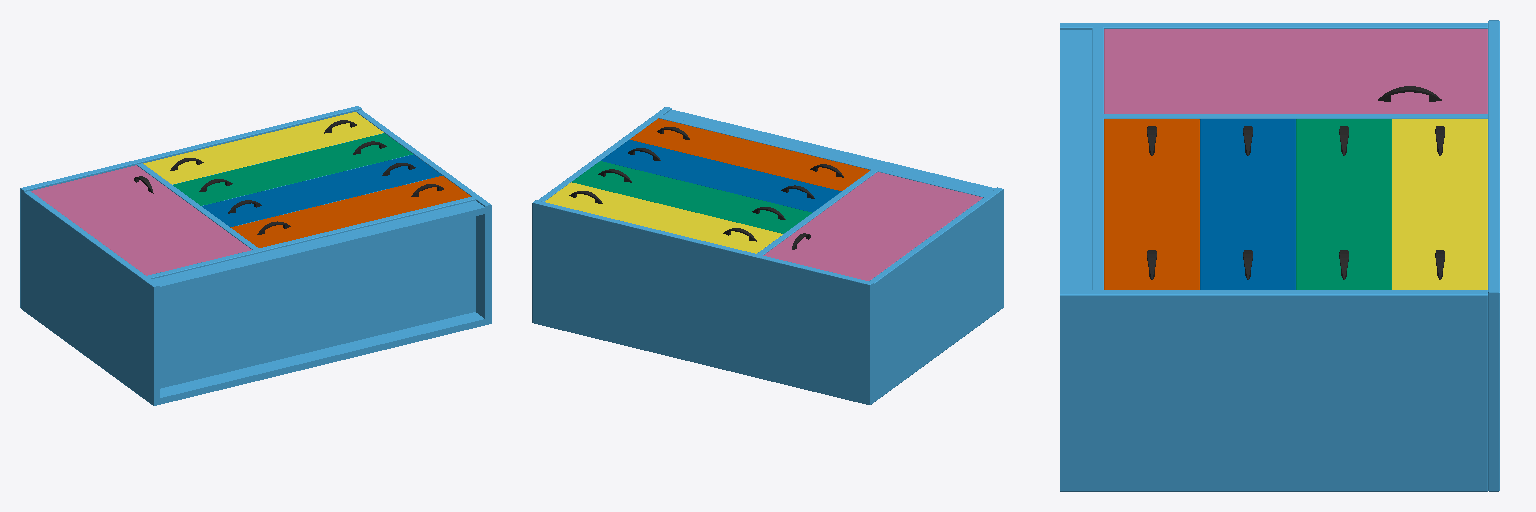
URDF robot description (s__2090):
<robot name="s__2090">


	<link name="0:virtual">
		<visual>
			<origin xyz="0.0 0.0 0.0" rpy="0 0 0"/>
			<geometry>
				<cylinder length="0" radius="0"/>
			</geometry>
		</visual>
	</link>


	<link name="1:static">
		<visual>
			<origin xyz="-0.0 -0.0 -0.0" rpy="0 0 0"/>
			<geometry>
				<mesh filename="../raw_data/s__2090/part_meshes/1.dae" />
			</geometry>
		</visual>
	</link>


	<link name="2:drawer 1">
		<visual>
			<origin xyz="-0.20000001043081284 -0.5297195017337799 0.0022474974393844604" rpy="0 0 0"/>
			<geometry>
				<mesh filename="../raw_data/s__2090/part_meshes/2.dae" />
			</geometry>
		</visual>
	</link>


	<link name="3:drawer 2">
		<visual>
			<origin xyz="-0.20000001043081284 -0.7084999978542328 0.0022475048899650574" rpy="0 0 0"/>
			<geometry>
				<mesh filename="../raw_data/s__2090/part_meshes/3.dae" />
			</geometry>
		</visual>
	</link>


	<link name="4:drawer 3">
		<visual>
			<origin xyz="-0.20000001043081284 -0.35071949660778046 0.0022474974393844604" rpy="0 0 0"/>
			<geometry>
				<mesh filename="../raw_data/s__2090/part_meshes/4.dae" />
			</geometry>
		</visual>
	</link>


	<link name="5:drawer 4">
		<visual>
			<origin xyz="-0.20000001043081284 -0.17171970382332802 0.0022474974393844604" rpy="0 0 0"/>
			<geometry>
				<mesh filename="../raw_data/s__2090/part_meshes/5.dae" />
			</geometry>
		</visual>
	</link>


	<link name="6:cabinet door 1">
		<visual>
			<origin xyz="0.5775610208511353 -0.43978049606084824 -0.1782499998807907" rpy="0 0 0"/>
			<geometry>
				<mesh filename="../raw_data/s__2090/part_meshes/6.dae" />
			</geometry>
		</visual>
	</link>


	<joint name="0:virtual::1:static" type="fixed">
		<parent link="0:virtual"/>
		<child link="1:static"/>
		<origin xyz="0.0 0.0 0.0" rpy="0 0 0"/>
	</joint>


	<joint name="0:virtual::2:drawer 1_translation" type="prismatic">
		<parent link="0:virtual"/>
		<child link="2:drawer 1"/>
		<origin xyz="0.20000001043081284 0.5297195017337799 -0.0022474974393844604" rpy="0 0 0"/>
		<limit lower="0.0" upper="0.346499998033047" effort="10" velocity="3"/>
		<axis xyz="0.0 0.0 1.0"/>
	</joint>


	<joint name="0:virtual::3:drawer 2_translation" type="prismatic">
		<parent link="0:virtual"/>
		<child link="3:drawer 2"/>
		<origin xyz="0.20000001043081284 0.7084999978542328 -0.0022475048899650574" rpy="0 0 0"/>
		<limit lower="0.0" upper="0.346499998033047" effort="10" velocity="3"/>
		<axis xyz="0.0 0.0 1.0"/>
	</joint>


	<joint name="0:virtual::4:drawer 3_translation" type="prismatic">
		<parent link="0:virtual"/>
		<child link="4:drawer 3"/>
		<origin xyz="0.20000001043081284 0.35071949660778046 -0.0022474974393844604" rpy="0 0 0"/>
		<limit lower="0.0" upper="0.346499998033047" effort="10" velocity="3"/>
		<axis xyz="0.0 0.0 1.0"/>
	</joint>


	<joint name="0:virtual::5:drawer 4_translation" type="prismatic">
		<parent link="0:virtual"/>
		<child link="5:drawer 4"/>
		<origin xyz="0.20000001043081284 0.17171970382332802 -0.0022474974393844604" rpy="0 0 0"/>
		<limit lower="0.0" upper="0.346499998033047" effort="10" velocity="3"/>
		<axis xyz="0.0 0.0 1.0"/>
	</joint>


	<joint name="0:virtual::6:cabinet door 1_rotation" type="revolute">
		<parent link="0:virtual"/>
		<child link="6:cabinet door 1"/>
		<origin xyz="-0.5775610208511353 0.43978049606084824 0.1782499998807907" rpy="0 0 0"/>
		<limit lower="-2.3876104167282426" upper="0.0" effort="10" velocity="3"/>
		<axis xyz="0.0 1.0 0.0"/>
	</joint>


</robot>

--- Facts derived from the render (not from the file) ---
The picture shows the robot from 3 angles, left to right: view 1: azimuth 30°, elevation 25°; view 2: azimuth 150°, elevation 25°; view 3: azimuth 270°, elevation 25°; orthographic projection.
Robot: s__2090 — 7 links, 6 joints (1 revolute, 4 prismatic, 1 fixed); root link 0:virtual; default pose: every joint at zero.
Links seen in each view (by area): view 1: 1:static, 6:cabinet door 1, 3:drawer 2, 2:drawer 1, 4:drawer 3, 5:drawer 4; view 2: 1:static, 6:cabinet door 1, 4:drawer 3, 5:drawer 4, 2:drawer 1, 3:drawer 2; view 3: 1:static, 6:cabinet door 1, 2:drawer 1, 3:drawer 2, 4:drawer 3, 5:drawer 4.
Boxes of the visible links, bbox=[...] form: 1:static: bbox=[20, 106, 491, 405]; 6:cabinet door 1: bbox=[31, 165, 251, 275]; 3:drawer 2: bbox=[143, 112, 383, 184]; 2:drawer 1: bbox=[173, 133, 412, 205]; 4:drawer 3: bbox=[202, 154, 442, 226]; 5:drawer 4: bbox=[230, 176, 470, 247]; 1:static: bbox=[532, 107, 1003, 404]; 6:cabinet door 1: bbox=[763, 172, 982, 280]; 4:drawer 3: bbox=[601, 140, 841, 212]; 5:drawer 4: bbox=[630, 118, 869, 190]; 2:drawer 1: bbox=[572, 161, 811, 233]; 3:drawer 2: bbox=[545, 182, 782, 253]; 1:static: bbox=[1060, 20, 1499, 491]; 6:cabinet door 1: bbox=[1104, 29, 1487, 113]; 2:drawer 1: bbox=[1296, 119, 1391, 289]; 3:drawer 2: bbox=[1392, 119, 1487, 289]; 4:drawer 3: bbox=[1200, 119, 1295, 289]; 5:drawer 4: bbox=[1104, 119, 1199, 289].
Bounding box of the posed robot: 1.2 × 0.82 × 0.43 m (x, y, z).
6 mesh visuals loaded from 6 distinct referenced files (6 Collada DAE).
